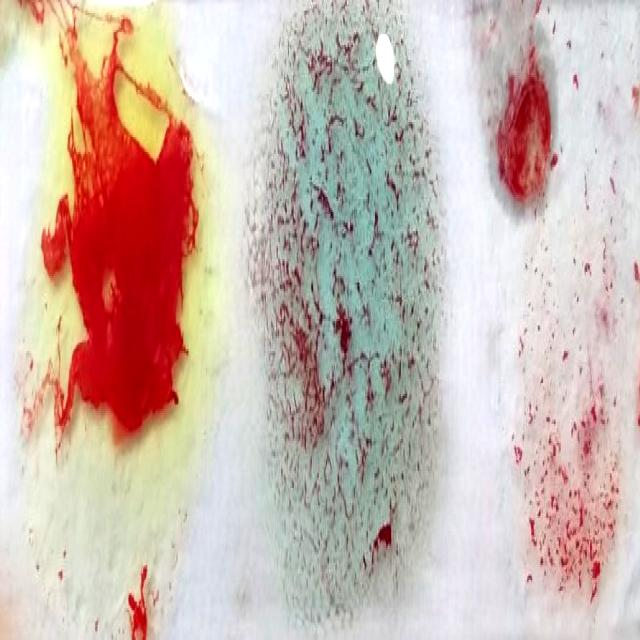A: (253, 15, 434, 640)
B: (31, 0, 215, 640)
D: (512, 8, 634, 630)
